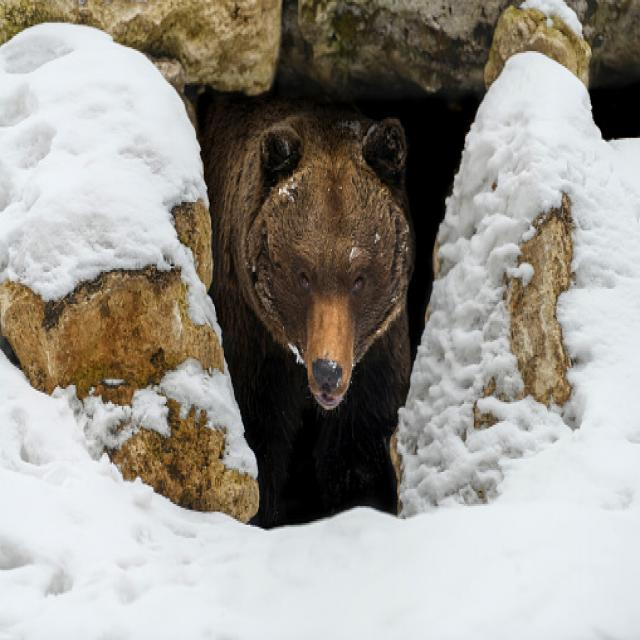Bear: (184, 87, 425, 527)
